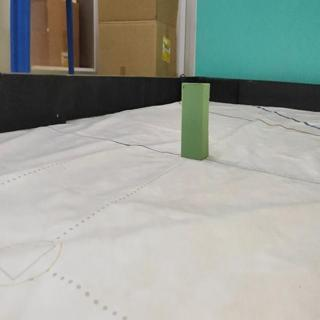greenbox: (180, 81, 210, 161)
